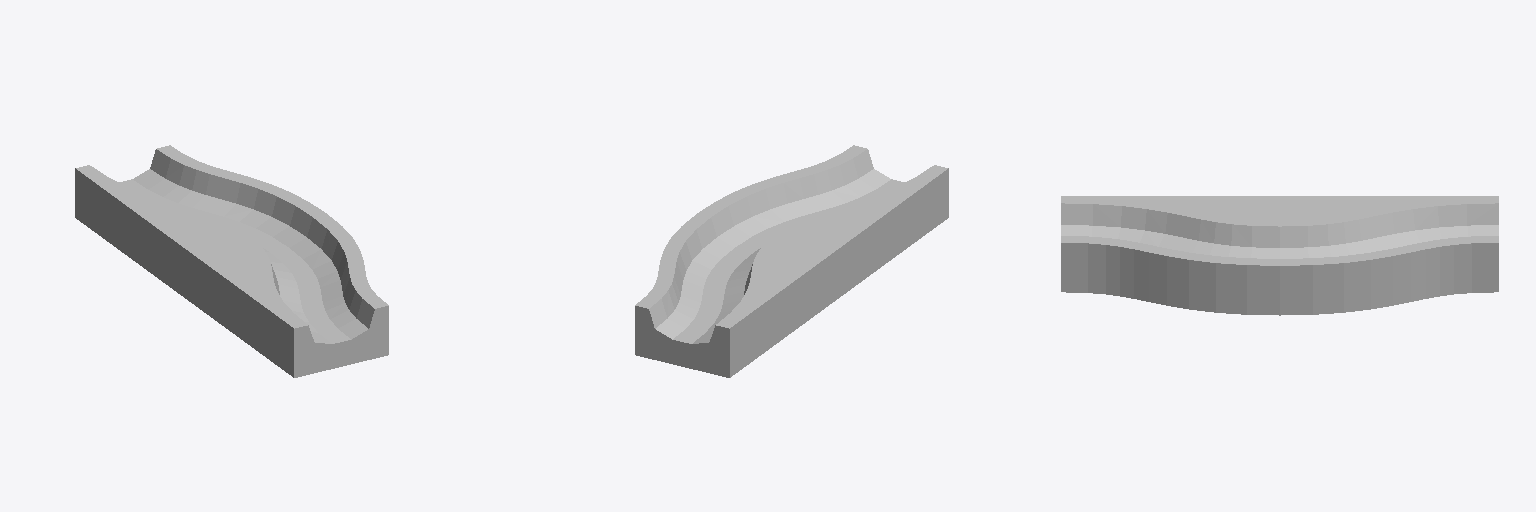
File: wave-solid-b.obj
The picture shows the model from 3 angles: view 1: azimuth 30°, elevation 25°; view 2: azimuth 150°, elevation 25°; view 3: azimuth 270°, elevation 25°; orthographic projection.
Visible parts, largest first — view 1: wave-solid-b; view 2: wave-solid-b; view 3: wave-solid-b.
Part boxes in pixels (left/top/right/bottom): wave-solid-b: left=75, top=145, right=388, bottom=377; wave-solid-b: left=635, top=145, right=948, bottom=377; wave-solid-b: left=1061, top=196, right=1498, bottom=315.
Bounding box in the file's own units: 1.5 × 0.5 × 4.